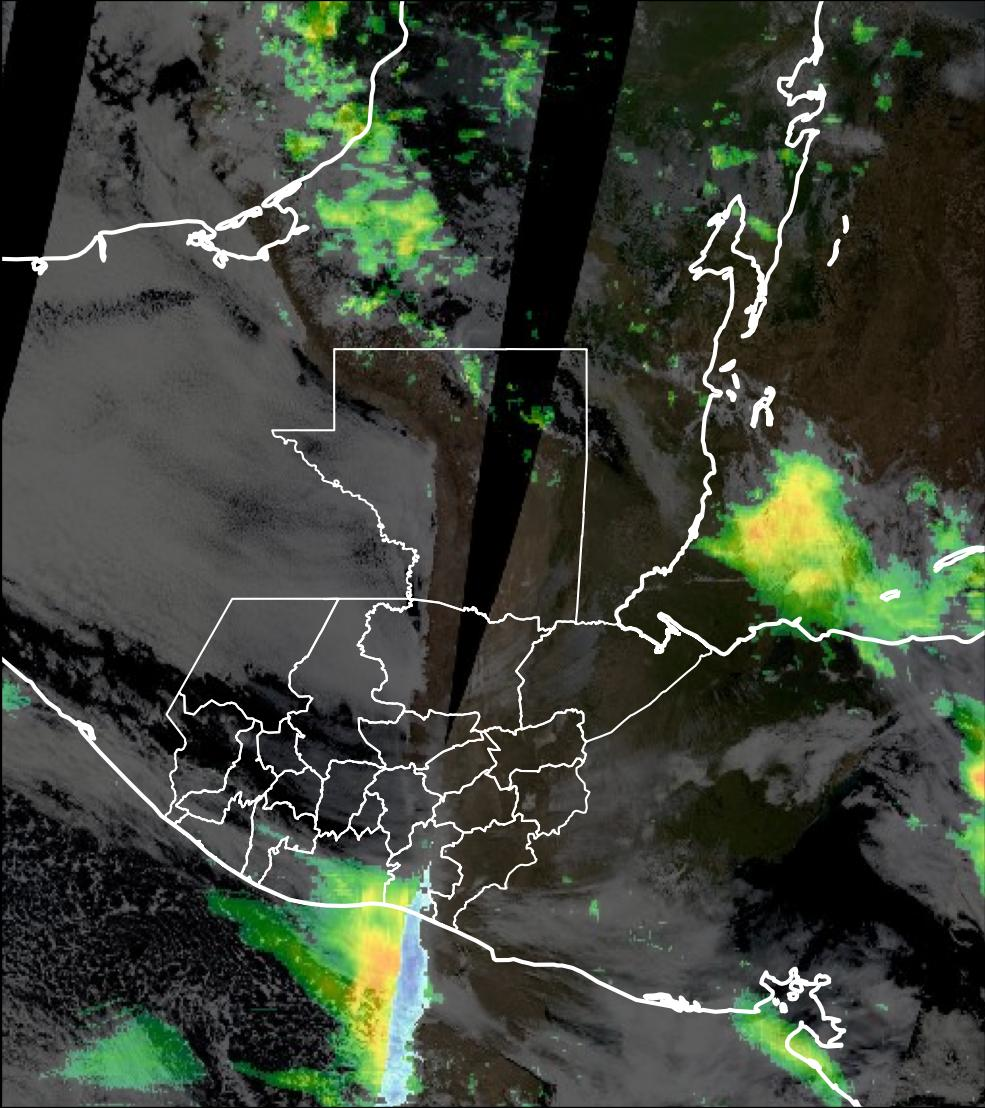precipitacion: (715, 478, 837, 569)
